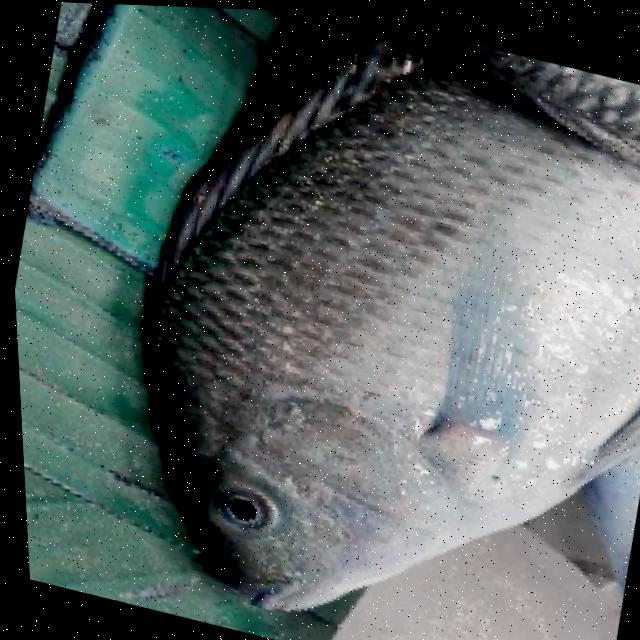Fresh: (111, 3, 640, 640)
